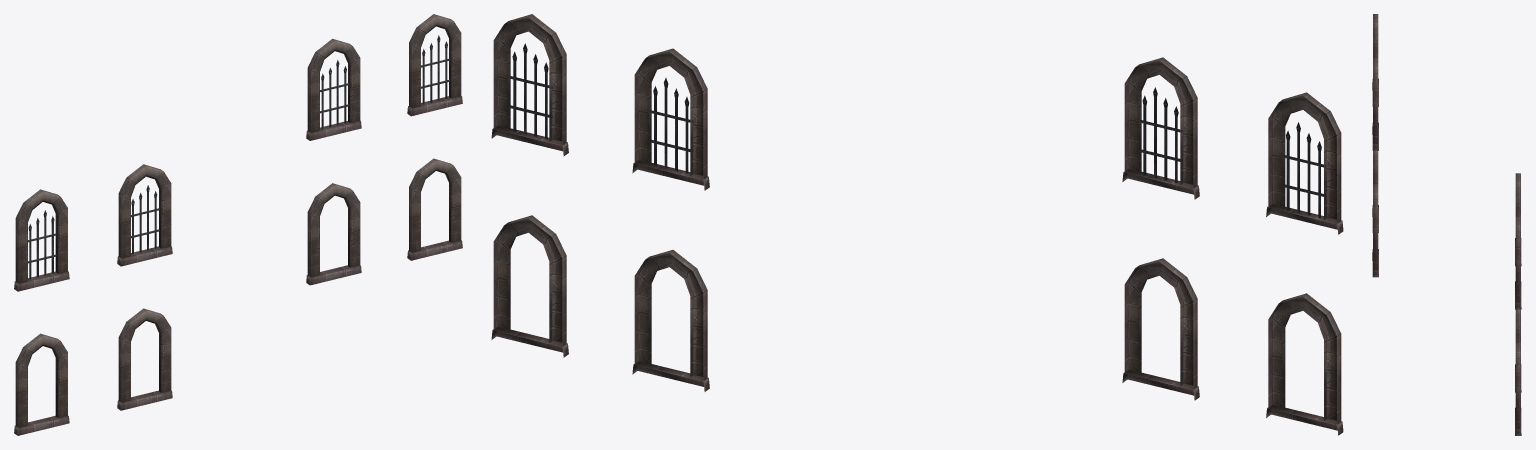
The model's file is chuanglan1.FBX.
3 renders of one model, left to right at view 1: azimuth 30°, elevation 25°; view 2: azimuth 150°, elevation 25°; view 3: azimuth 270°, elevation 25°, orthographic. The views are drawn at different scales.
Parts seen in each view (by area): view 1: chuanlan; view 2: chuanlan; view 3: chuanlan.
Boxes of the visible parts, box(x1,y1,x2,y2) form: chuanlan: box(14, 14, 462, 435); chuanlan: box(491, 14, 1343, 435); chuanlan: box(1372, 14, 1521, 435).
Size of the model in its own units: 2429 by 1050 by 680.
